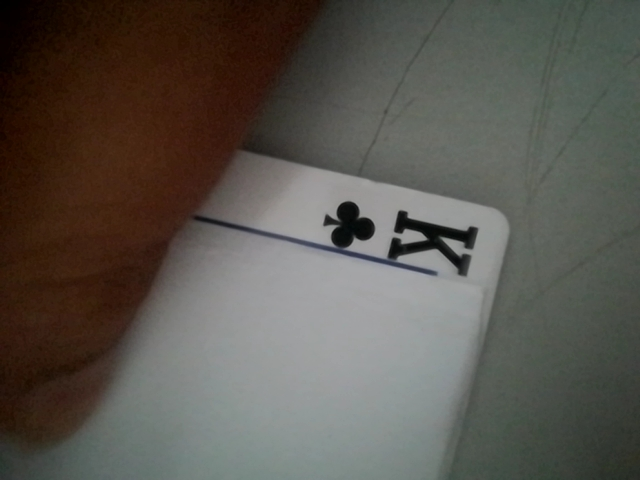mh k: (296, 187, 491, 280)
